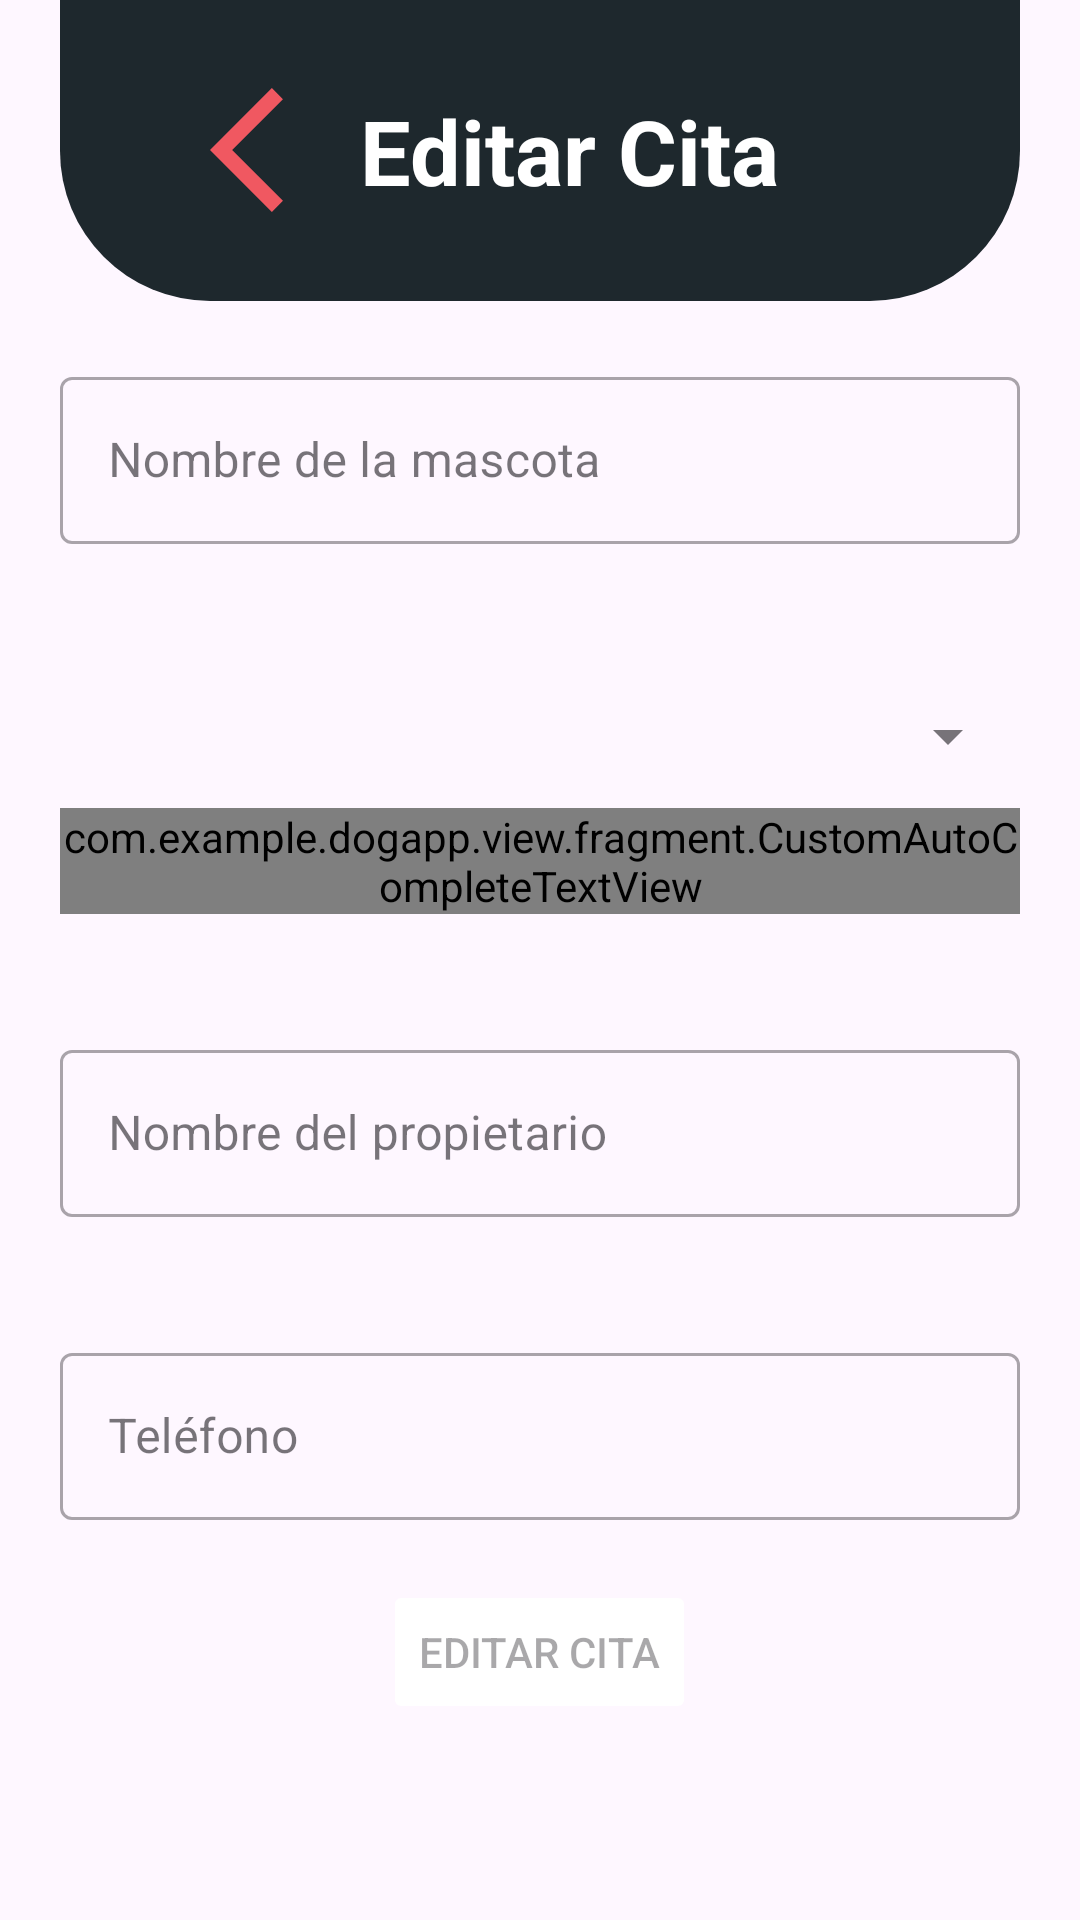

Screen size 1080x1920. Icon name, then its center in pixels as [x,y]:
back arrow: [246,150]
